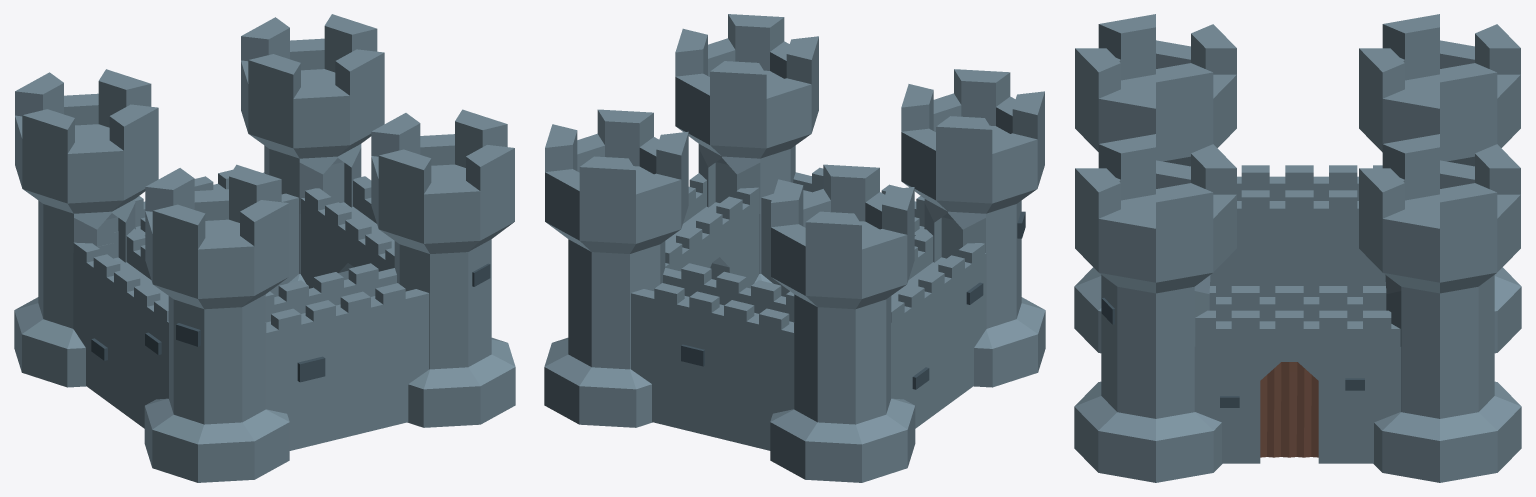
The model's file is castle.glb.
3 renders of one model, left to right at view 1: azimuth 30°, elevation 25°; view 2: azimuth 150°, elevation 25°; view 3: azimuth 270°, elevation 25°, orthographic. The views are drawn at different scales.
Parts seen in each view (by area): view 1: Castle_Cube.032; view 2: Castle_Cube.032; view 3: Castle_Cube.032.
Part boxes in pixels (box(x1,y1,x2,y2)): Castle_Cube.032: box(14, 14, 515, 482); Castle_Cube.032: box(544, 14, 1045, 482); Castle_Cube.032: box(1074, 14, 1521, 482).
Size of the model in its own units: 21.55 by 15 by 21.55.
